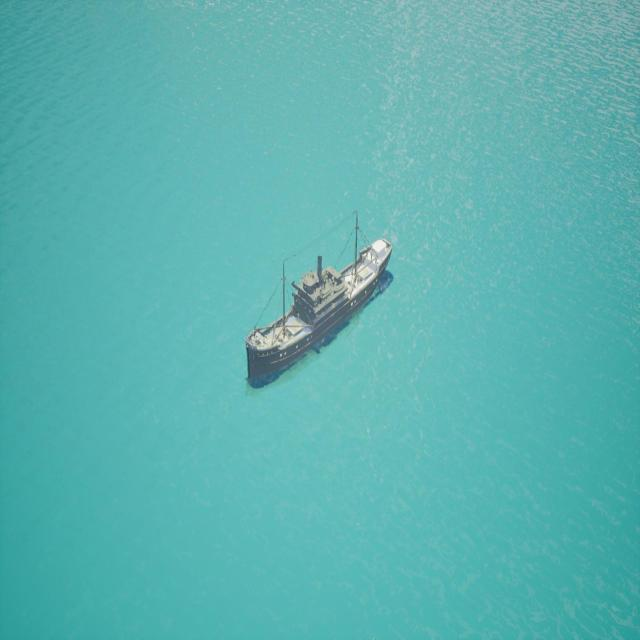fishing ship: (244, 237, 397, 391)
